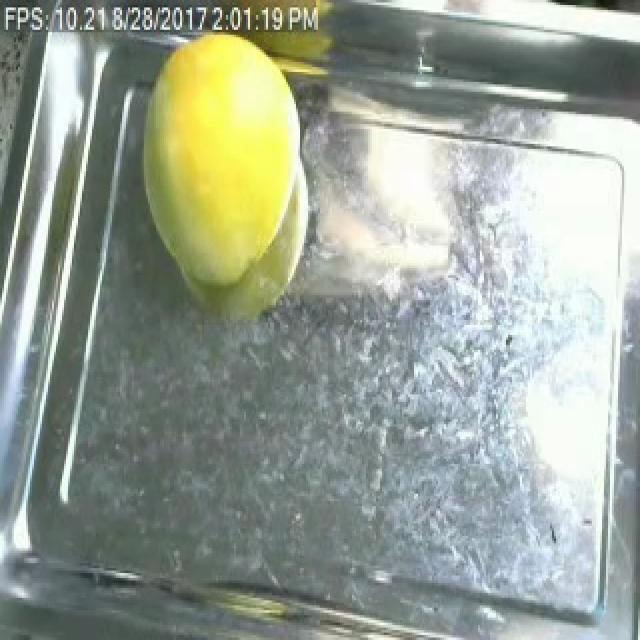fruit: (116, 22, 328, 322)
